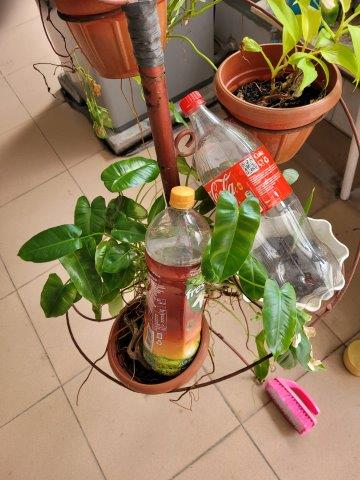botolplastik: (182, 93, 347, 311), (140, 187, 206, 371)
